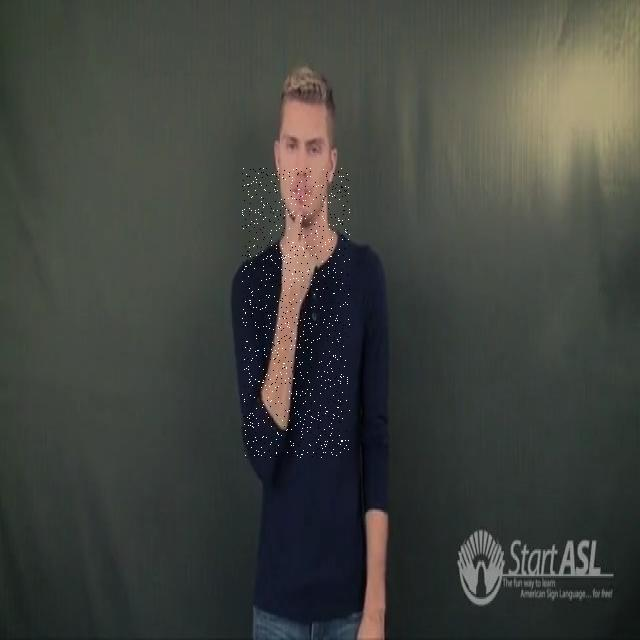bitter: (242, 168, 350, 458)
